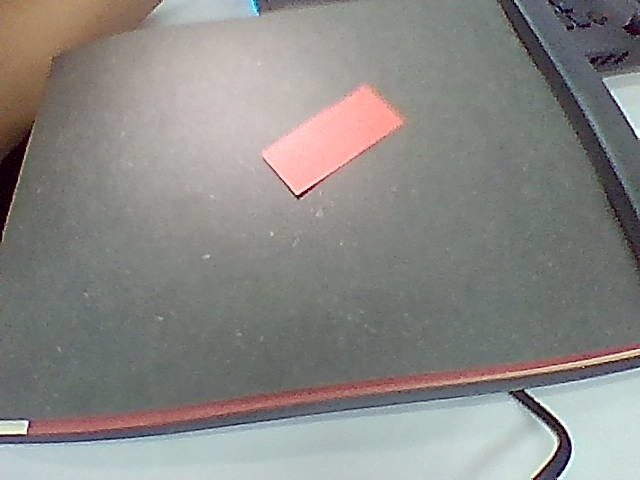card: (262, 84, 403, 196)
